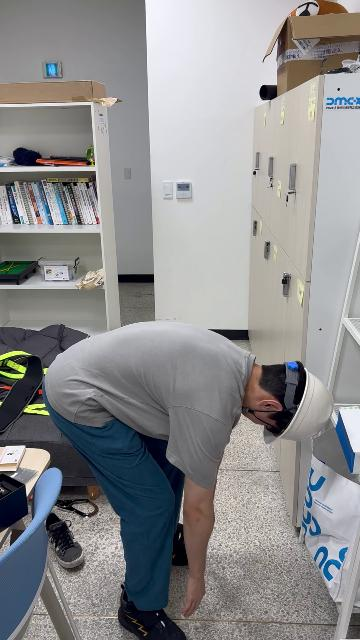helmet_worn: (260, 361, 335, 444)
shoe_not_worn: (44, 512, 86, 569)
shoe_worn: (118, 586, 188, 640), (171, 523, 188, 567)
vest_not_worn: (42, 319, 251, 474)
